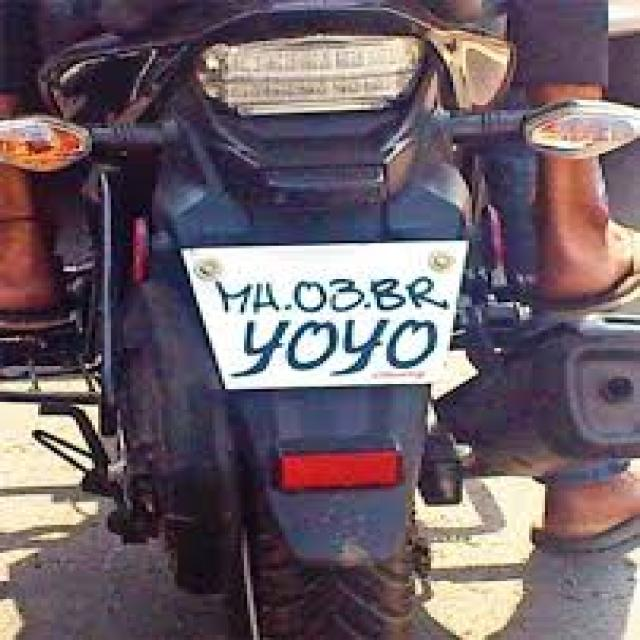license_plate: (174, 236, 469, 389)
